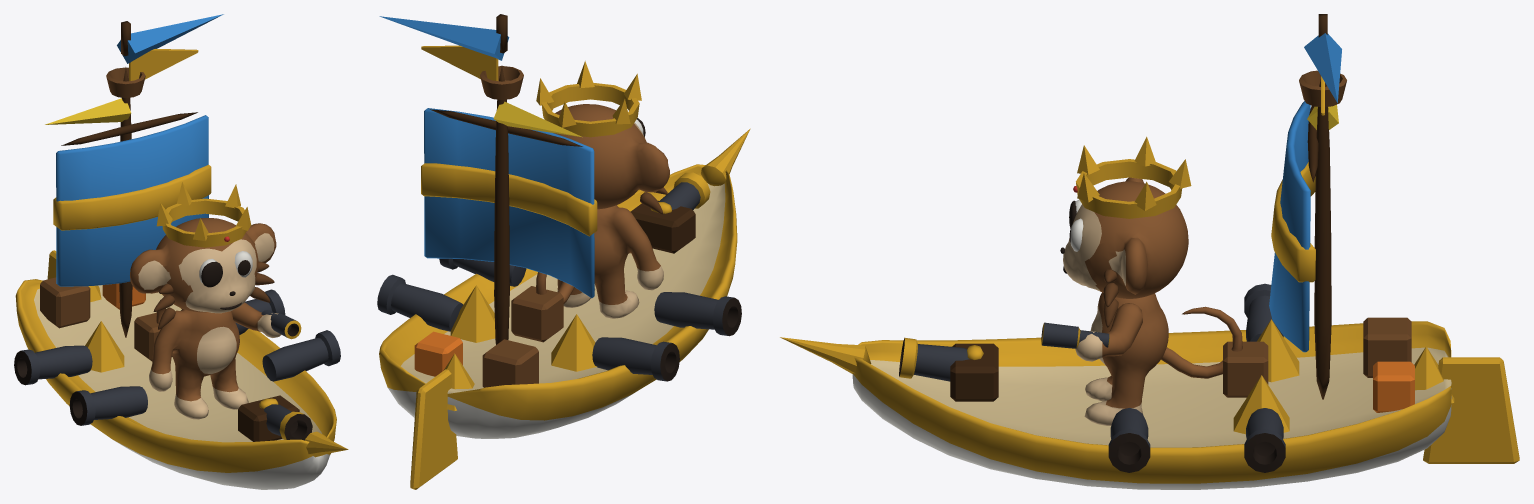
The picture shows the model from 3 angles, left to right: view 1: azimuth 30°, elevation 25°; view 2: azimuth 150°, elevation 25°; view 3: azimuth 270°, elevation 25°; orthographic projection. The views are drawn at different scales.
Parts seen in each view (by area): view 1: bucaneiro_0_base, bucaneiro_3_cabeca, bucaneiro_1_corpo, bucaneiro_4_braco; view 2: bucaneiro_0_base, bucaneiro_3_cabeca, bucaneiro_1_corpo, bucaneiro_2_cauda; view 3: bucaneiro_0_base, bucaneiro_3_cabeca, bucaneiro_1_corpo, bucaneiro_4_braco, bucaneiro_2_cauda.
Part boxes in pixels (x1,y1,x2,y2): bucaneiro_0_base: (14,14,348,489); bucaneiro_3_cabeca: (130,182,276,329); bucaneiro_1_corpo: (149,309,248,419); bucaneiro_4_braco: (231,302,301,339); bucaneiro_0_base: (377,14,750,489); bucaneiro_3_cabeca: (536,61,669,214); bucaneiro_1_corpo: (557,205,663,318); bucaneiro_2_cauda: (536,272,574,303); bucaneiro_0_base: (780,14,1519,489); bucaneiro_3_cabeca: (1060,136,1191,327); bucaneiro_1_corpo: (1084,292,1168,425); bucaneiro_4_braco: (1041,303,1142,361); bucaneiro_2_cauda: (1161,306,1242,378).
Size of the model in its own units: 1.12 by 1.54 by 2.3.
